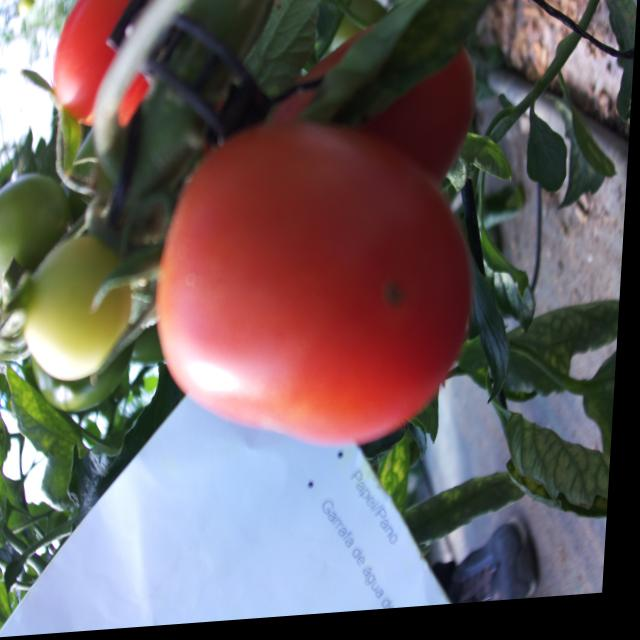kirmizi: (147, 91, 491, 464)
